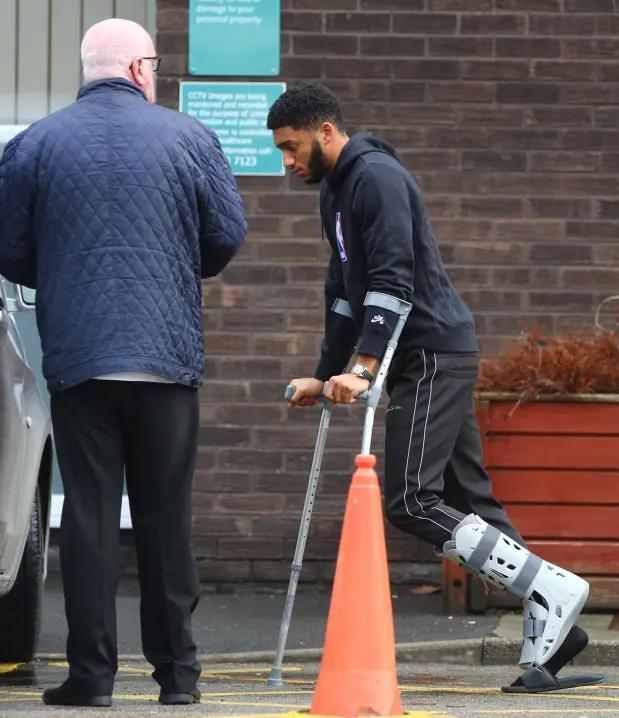crutches: (258, 73, 593, 702)
